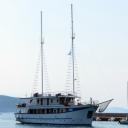cruises: (15, 90, 102, 128)
